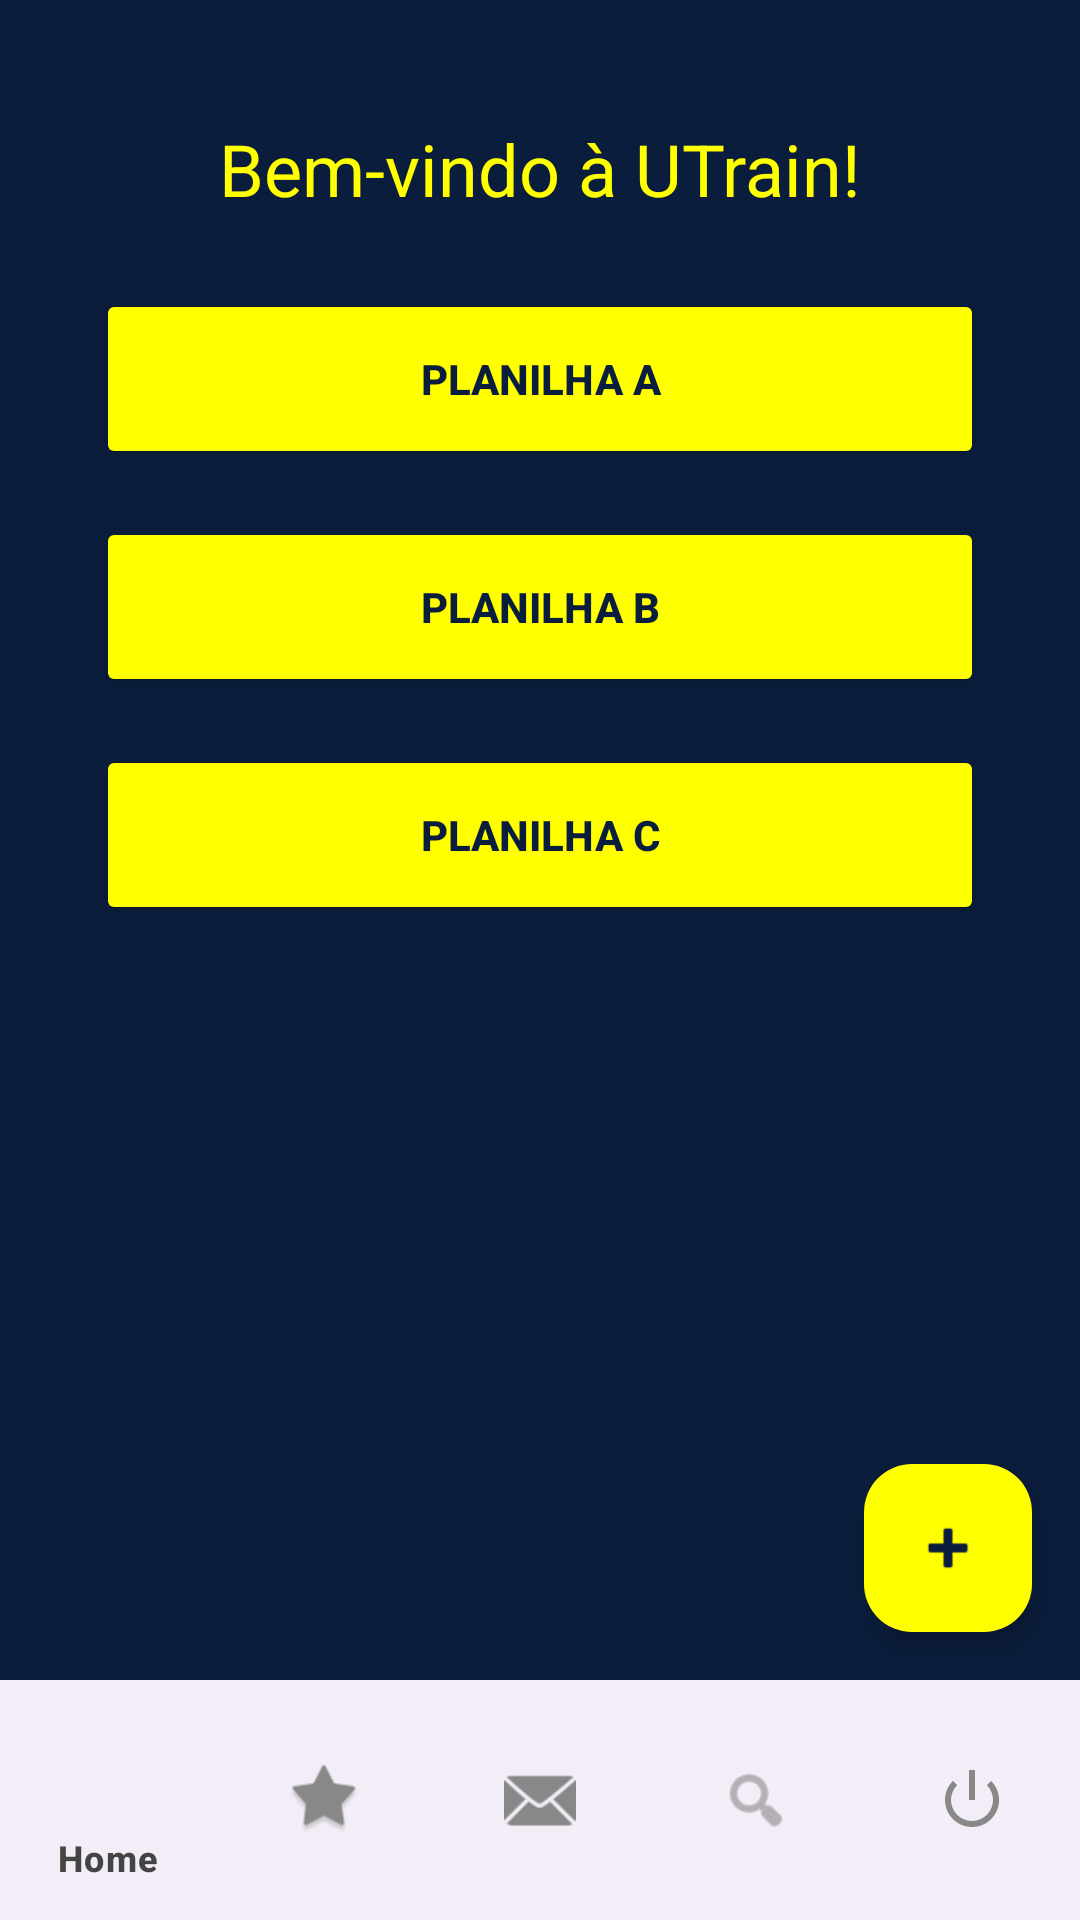

Point at icon controls on the screen. Image size 1080x1920, points as (x,y).
Adicionar exercício: (948,1548)
